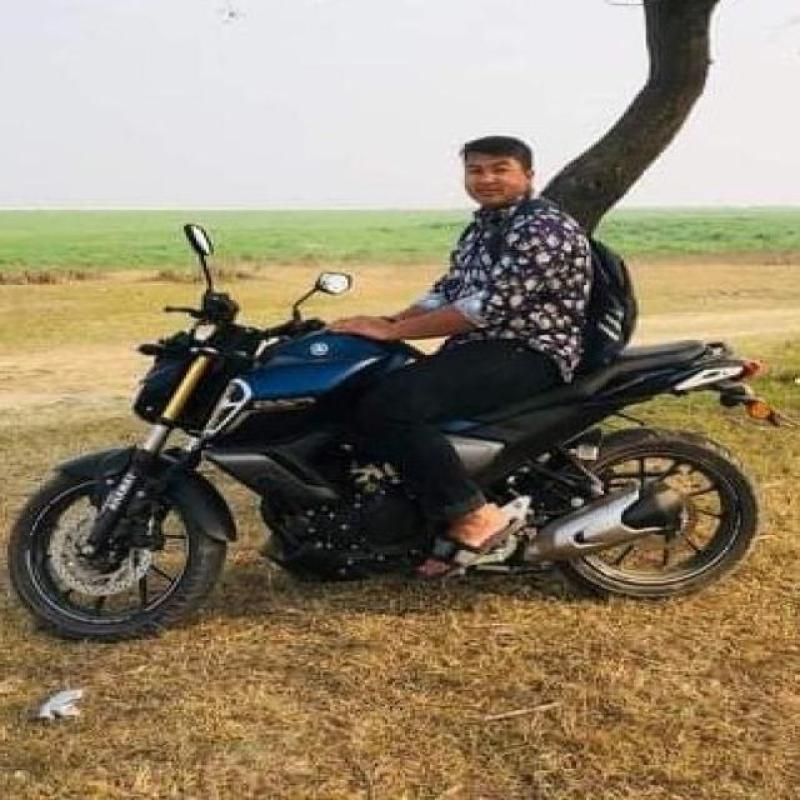nohelmet: (450, 134, 553, 212)
